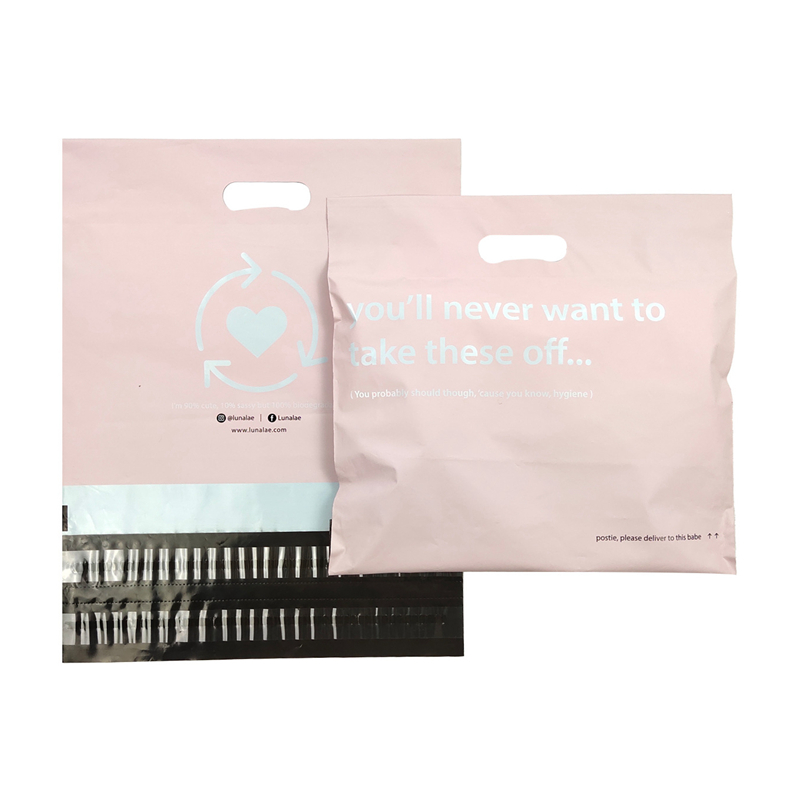Parcel: (62, 140, 462, 662), (327, 195, 737, 574)
